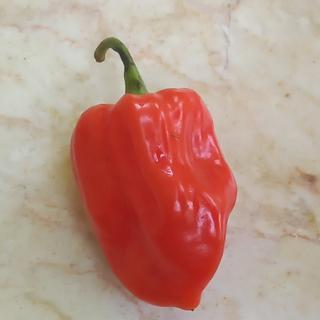Grade-A: (58, 81, 239, 314)
